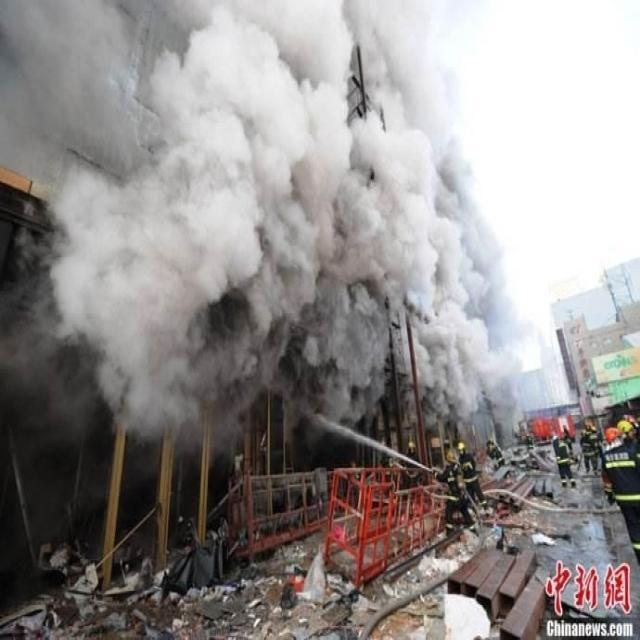Smoke: (1, 1, 523, 482)
